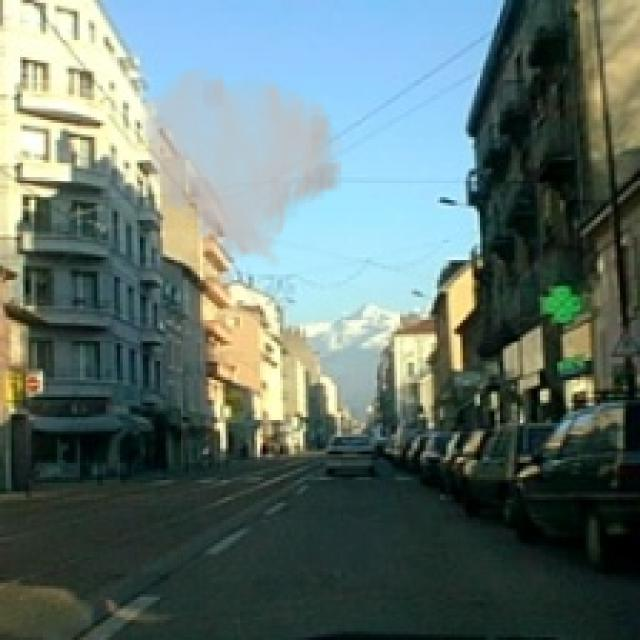smoke: (140, 63, 346, 271)
